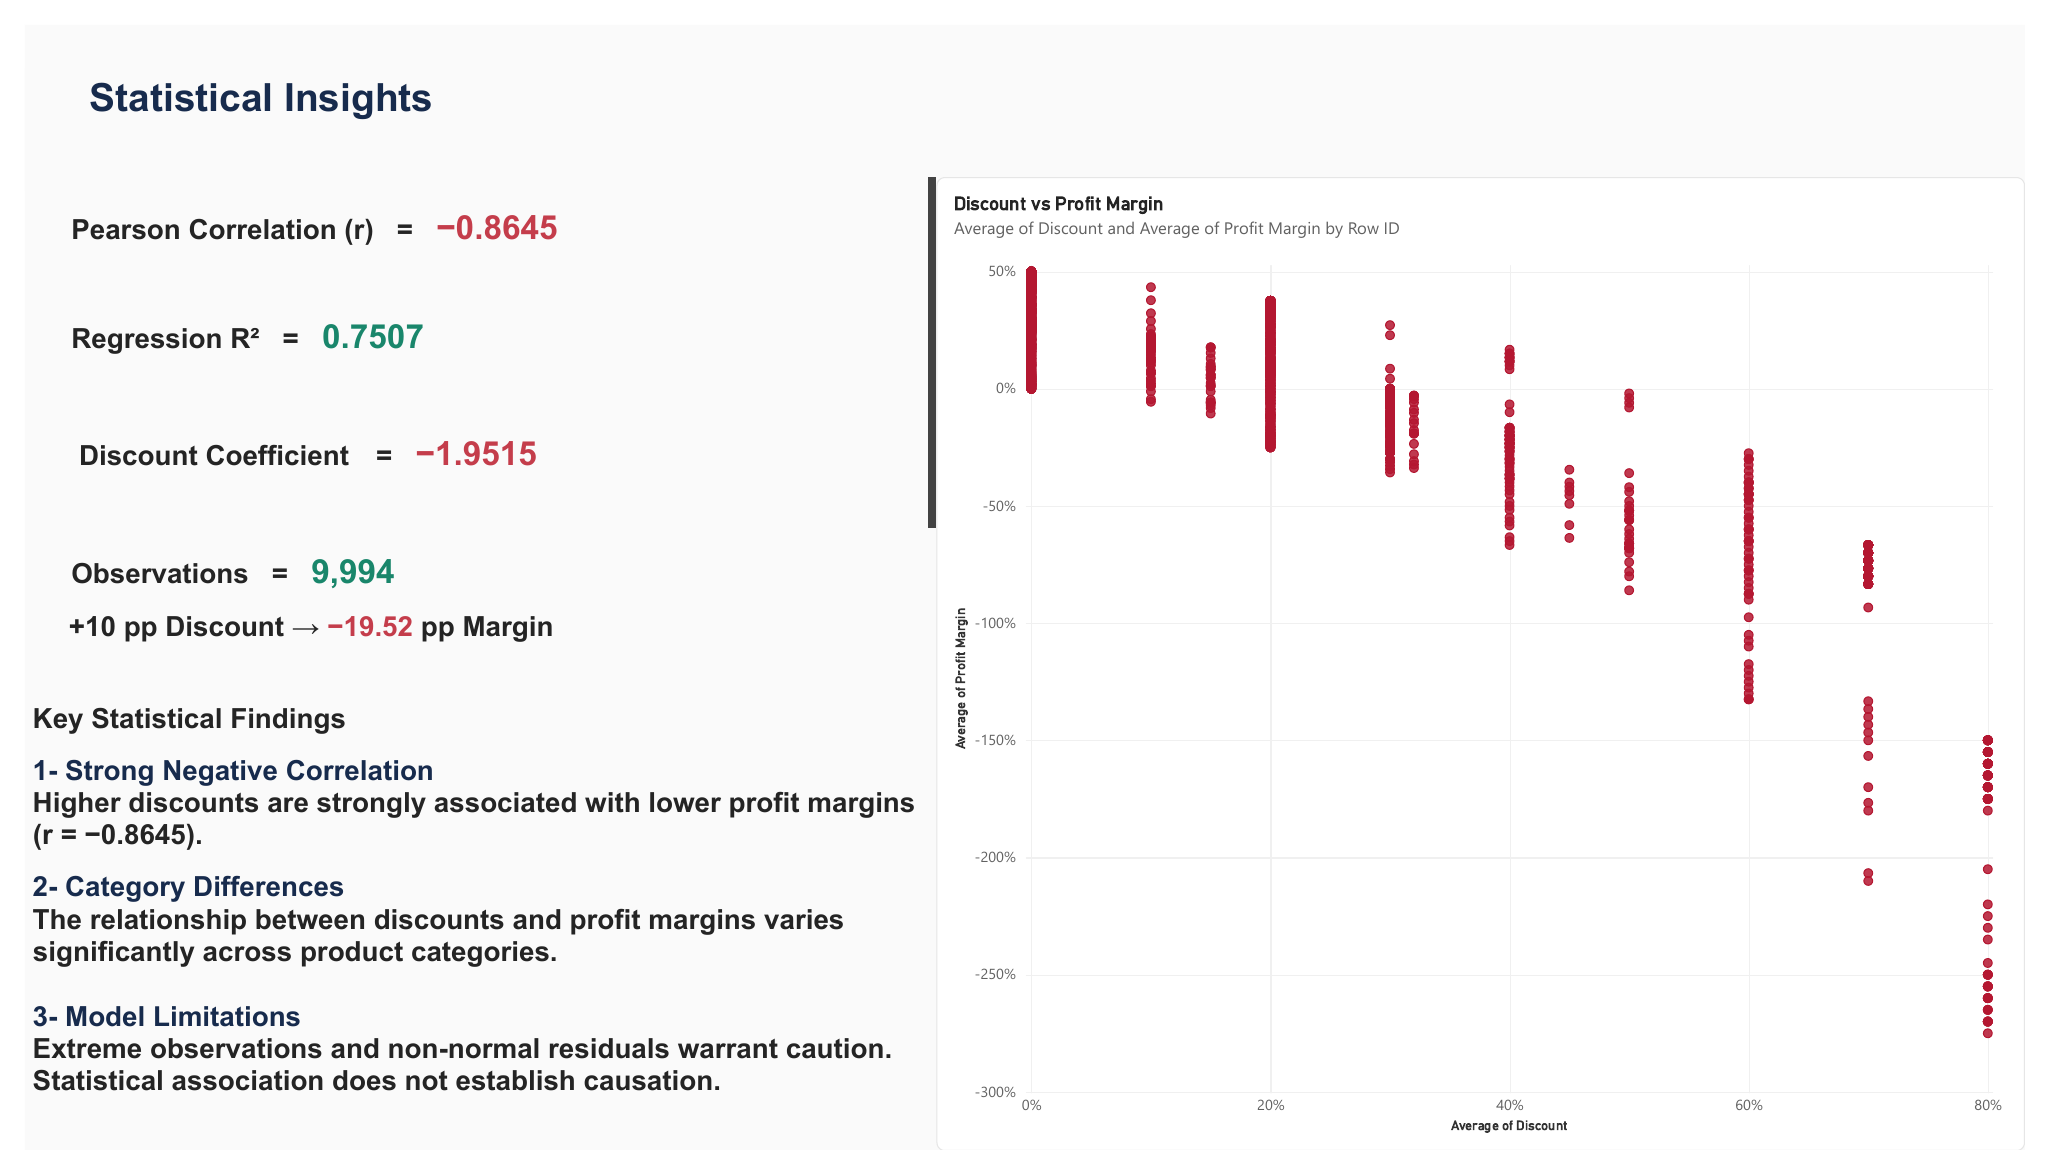

This screenshot's page, from the dashboard's own definition file:
{"tool":"powerbi","page":{"name":"Statistical Insights","canvas":[1920,1080],"ordinal":2},"visuals":[{"type":"scatterChart","title":"Discount vs Profit Margin","fields":{"Category":["SalesData.Row ID"],"X":["Avg(SalesData.Discount)"],"Y":["Avg(SalesData.Profit Margin)"]},"box":[874.8,146.1,1045.6,934.5],"z":0},{"type":"textbox","box":[0,0,1920.4,146.1],"z":1},{"type":"textbox","box":[0,146.1,874.8,467.2],"z":2},{"type":"textbox","box":[0,613,875,467],"z":3}]}

Visuals, with their boxes in screenshot pixels (x1, y1, x2, y2), scaled from the page's 1920x1080 canvas onto the 2050x1175 screenshot:
"Discount vs Profit Margin" scatterChart: 934,159,2049,1174
textbox: 0,0,2049,159
textbox: 0,159,934,667
textbox: 0,667,934,1174
